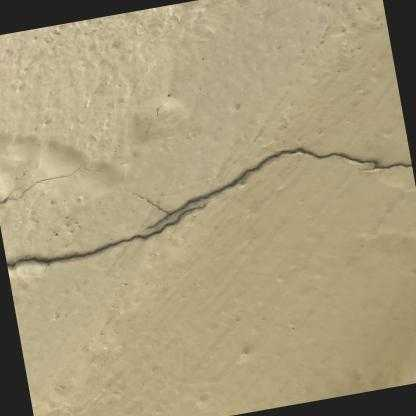crack: (132, 147, 412, 229), (6, 198, 215, 266)
